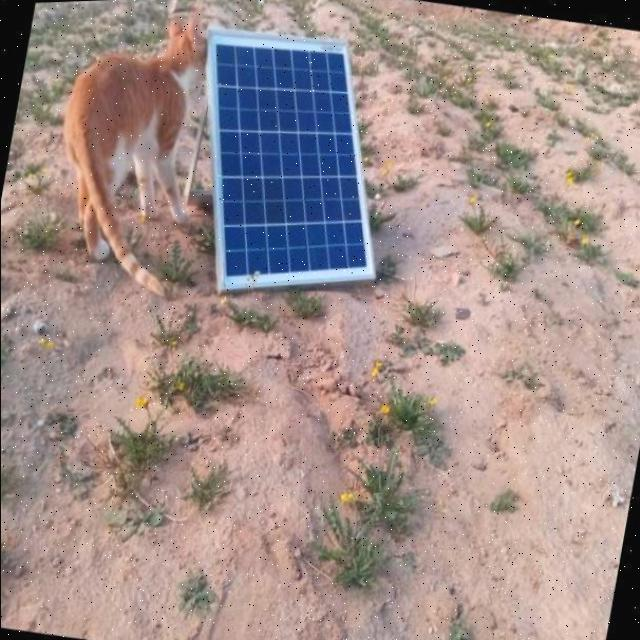Normal Solar Panel: (167, 21, 410, 311)
